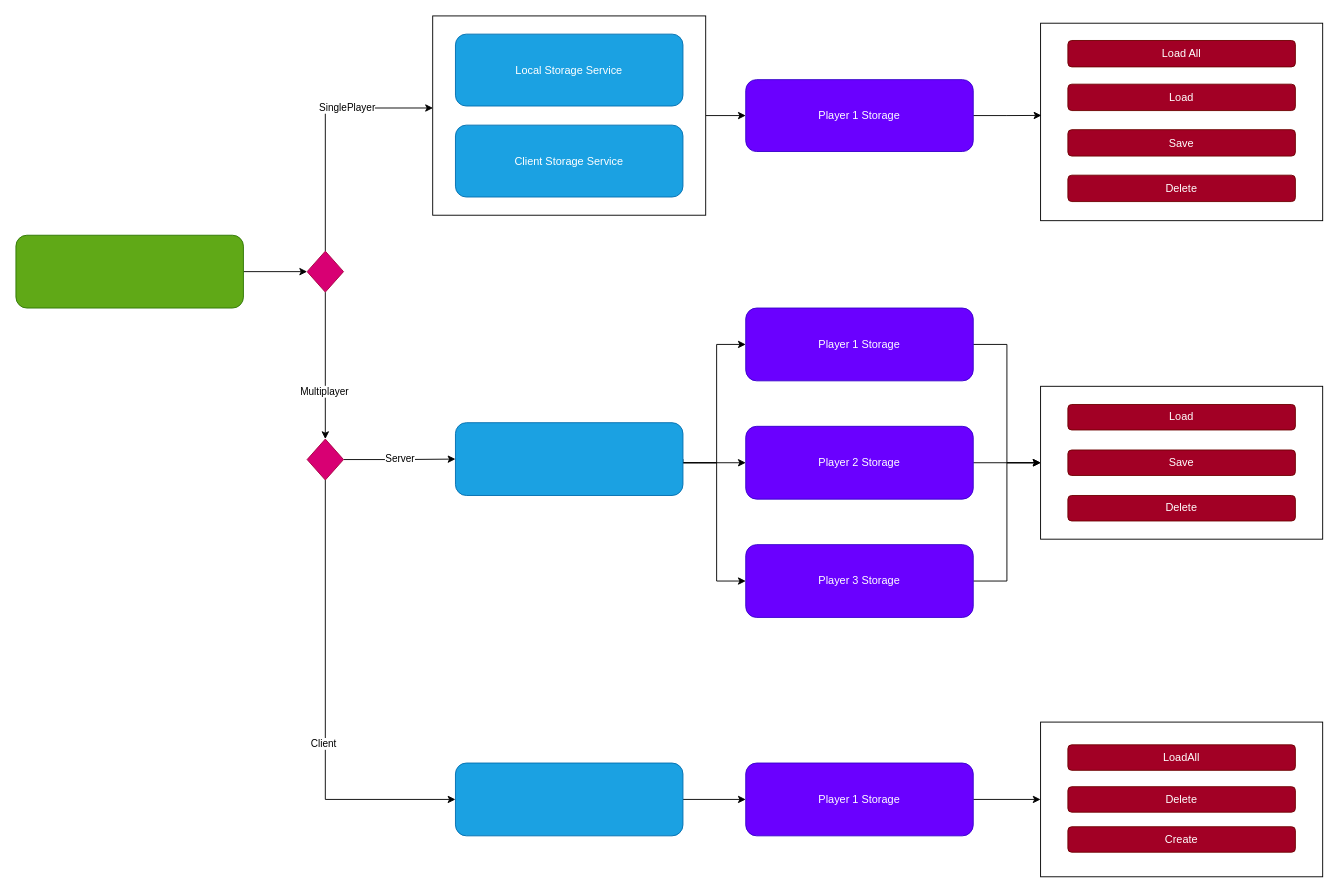
Some shapes in this 1339 by 893 pixel diagram are drawn without their labels. The shapes that lost their labels are listed below. From the top down, each one's box as (x1, y1, x2, y2) in pixels, then its label:
(15, 234, 243, 308): Storage Manager
(455, 422, 683, 495): Server Storage Service
(455, 762, 683, 836): Client Storage Service (ReadyOnly)
